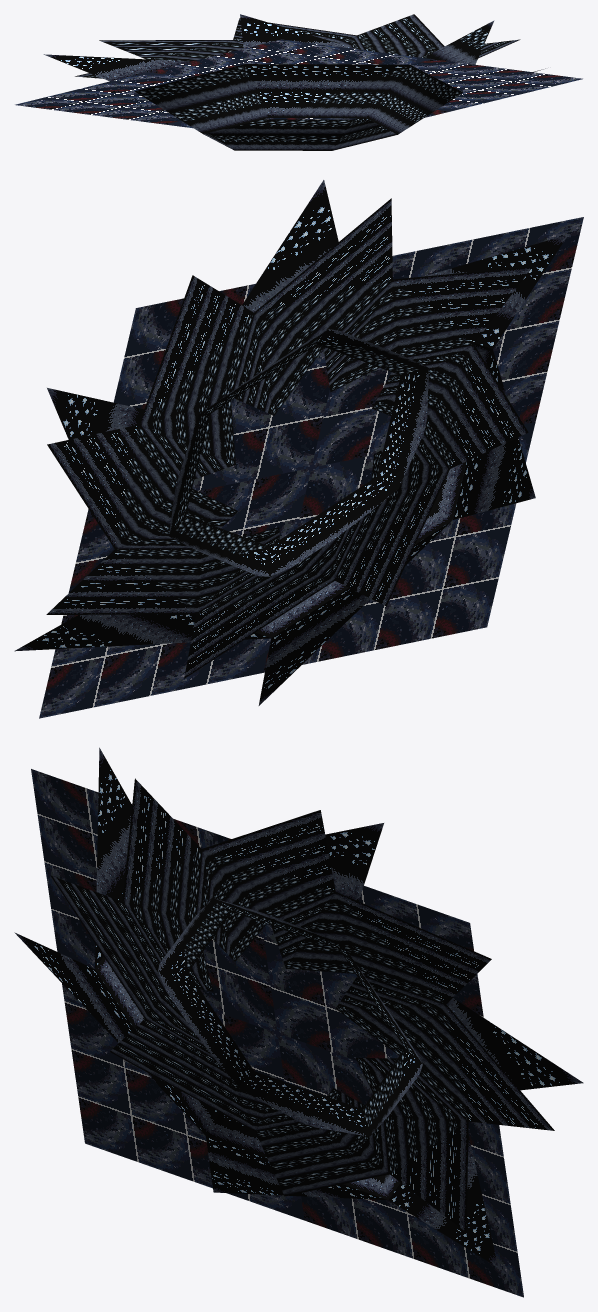
The model's file is 3283IMIG05_09.gltf.
The picture shows the model from 3 angles, top to bottom: view 1: azimuth 30°, elevation 25°; view 2: azimuth 150°, elevation 25°; view 3: azimuth 270°, elevation 25°; orthographic projection. The views are drawn at different scales.
Visible parts, largest first — view 1: 3283IMIG05_09; view 2: 3283IMIG05_09; view 3: 3283IMIG05_09.
Part boxes in pixels (x1,y1,x2,y2): 3283IMIG05_09: (15, 14, 582, 150); 3283IMIG05_09: (14, 180, 583, 718); 3283IMIG05_09: (14, 747, 583, 1297).
Bounding box in the file's own units: 2.15 × 1.44 × 1.86.
2 materials, 2 textured.
